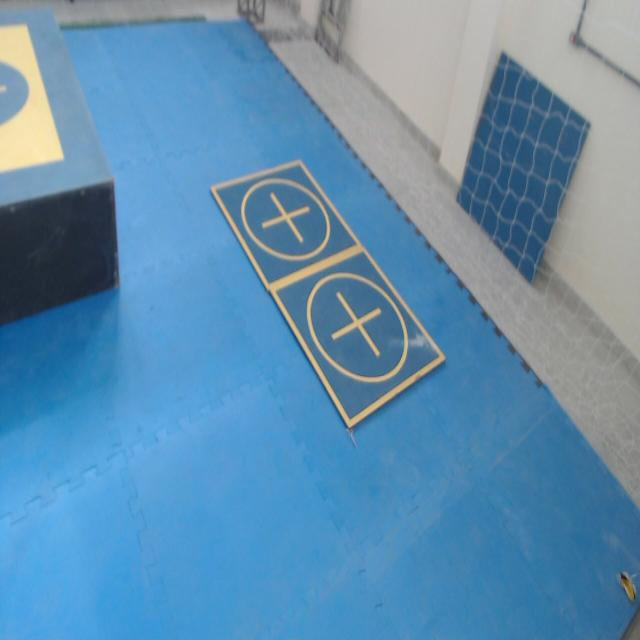base_inicio: (1, 24, 65, 173)
base_pouso: (270, 246, 448, 430), (211, 158, 363, 290)
